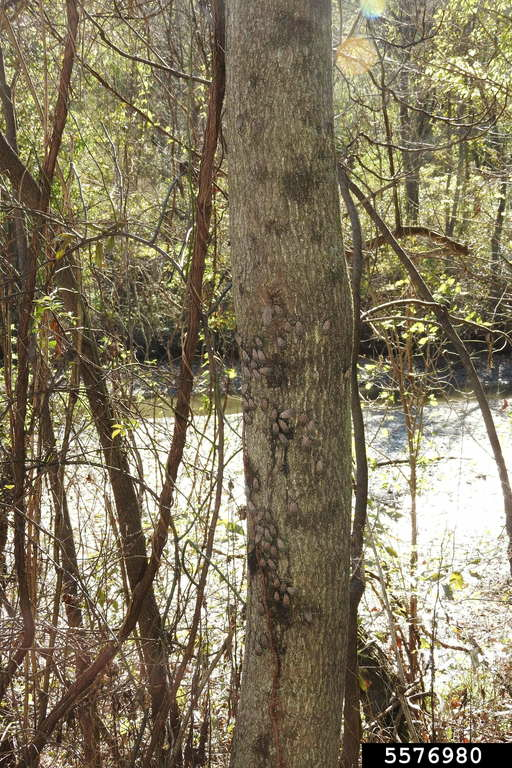adult: (229, 333, 269, 380), (238, 394, 297, 425), (249, 503, 276, 568), (281, 319, 313, 336), (268, 428, 293, 441), (273, 591, 293, 606), (317, 318, 337, 333), (252, 634, 264, 651), (272, 338, 291, 347), (265, 580, 293, 585)
